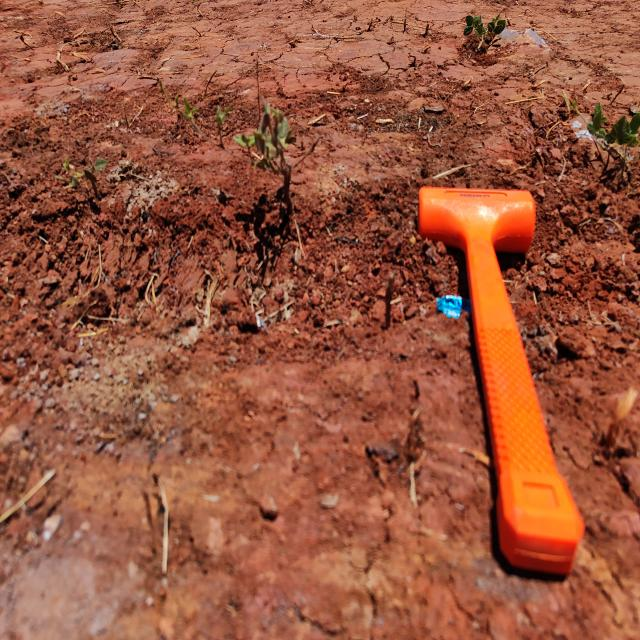Orange_hammer: (417, 184, 585, 579)
